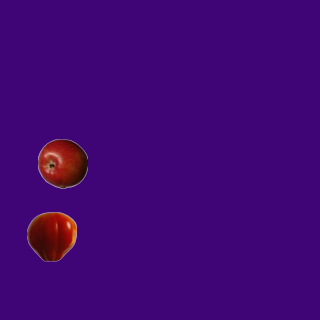Apple Braeburn: (37, 138, 87, 188)
Tomato 1: (26, 211, 76, 261)
